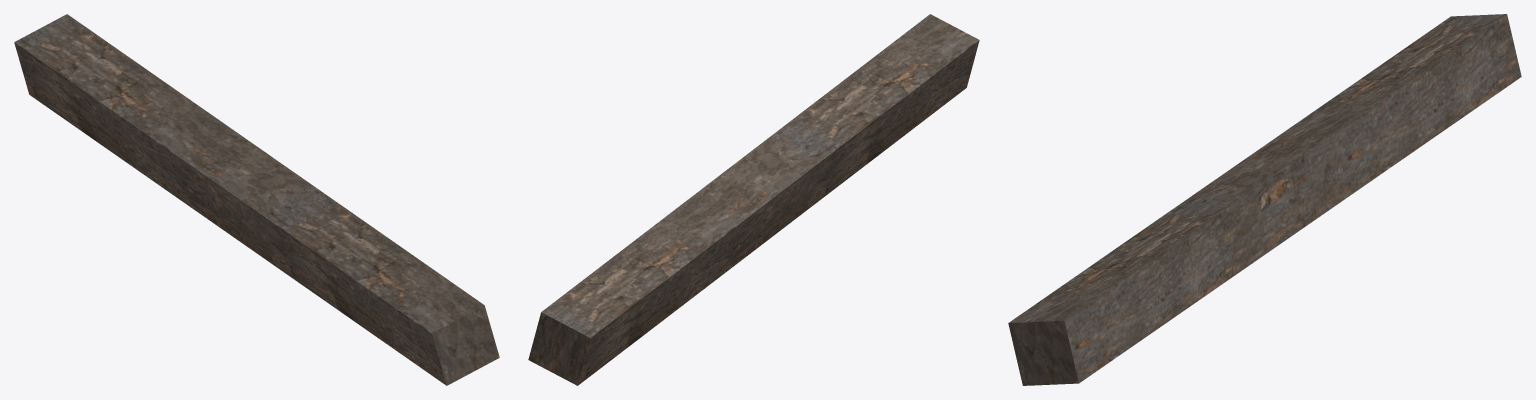
File: BoxWoodC_S.glb
3 renders of one model, left to right at view 1: azimuth 30°, elevation 25°; view 2: azimuth 150°, elevation 25°; view 3: azimuth 330°, elevation 25°, orthographic. The views are drawn at different scales.
Visible parts, largest first — view 1: BoxWoodC_S; view 2: BoxWoodC_S; view 3: BoxWoodC_S.
Part boxes in pixels (<box>): BoxWoodC_S: <box>14,14,499,385</box>; BoxWoodC_S: <box>528,14,979,385</box>; BoxWoodC_S: <box>1008,14,1521,385</box>.
Bounding box in the file's own units: 0.1122 × 0.1345 × 1.19.
Materials: 1 (1 with a texture image).
